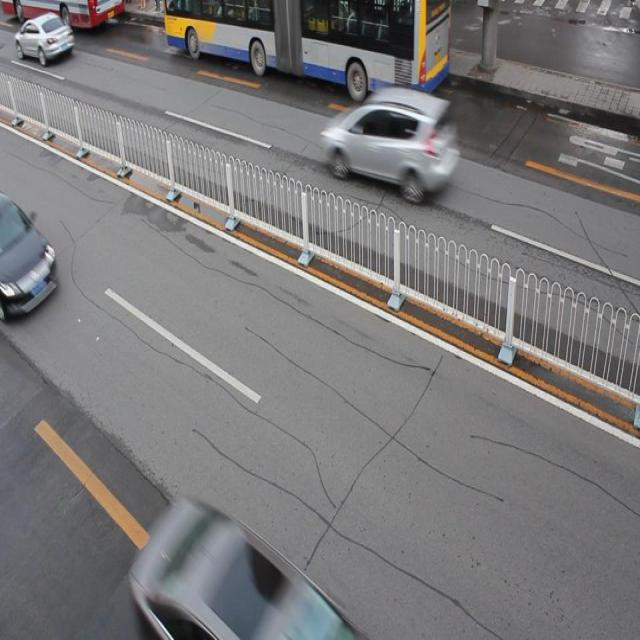car: (136, 500, 360, 640), (324, 87, 452, 199), (1, 196, 58, 318), (15, 11, 74, 66)
van: (163, 1, 450, 100), (0, 1, 124, 31)
